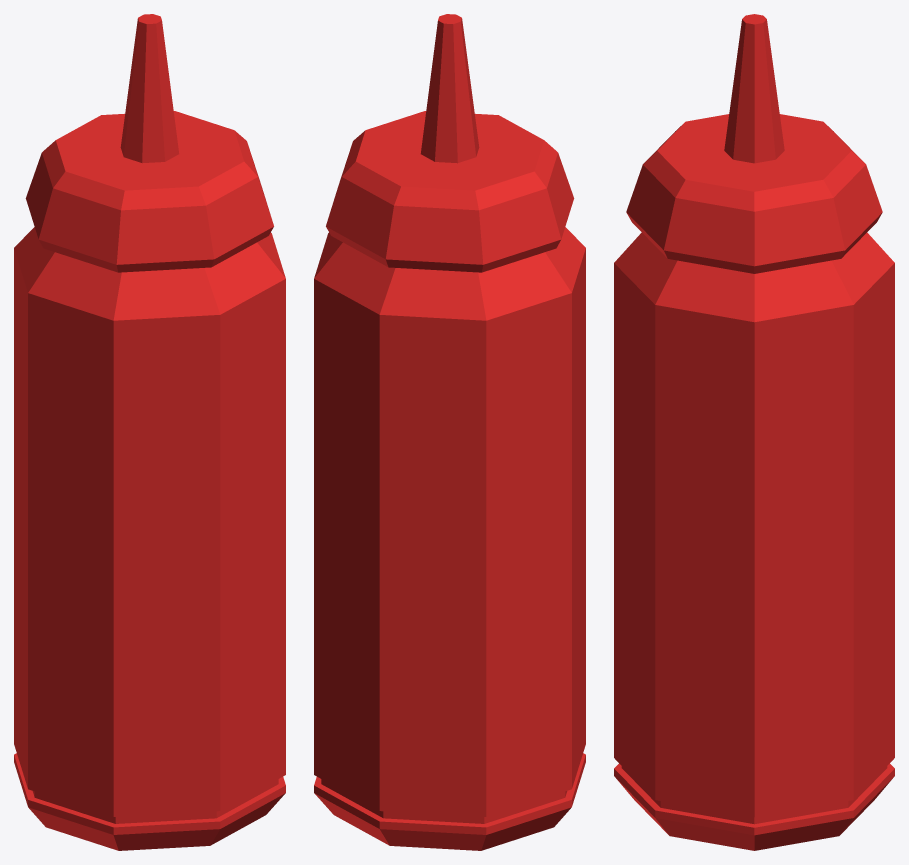
File: KetchupBottle.obj
The picture shows the model from 3 angles, left to right: view 1: azimuth 30°, elevation 25°; view 2: azimuth 150°, elevation 25°; view 3: azimuth 270°, elevation 25°; orthographic projection.
Visible parts, largest first — view 1: KetchupBottle; view 2: KetchupBottle; view 3: KetchupBottle.
Part boxes in pixels (x1,y1,x2,y2): KetchupBottle: (14,14,285,850); KetchupBottle: (314,14,585,850); KetchupBottle: (614,14,894,850).
Size of the model in its own units: 0.4996 by 1.53 by 0.4996.
